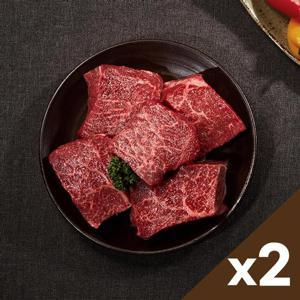beef: (33, 39, 105, 101)
